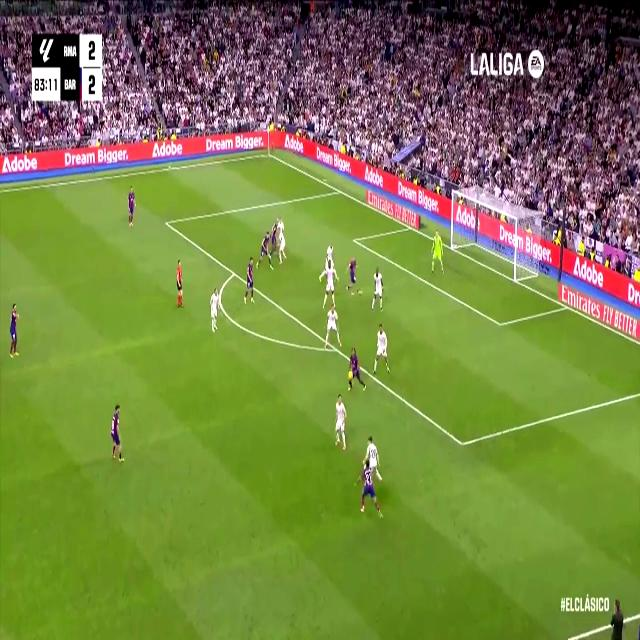bigarea_bottom_inner: (456, 429, 468, 457)
bigarea_top_inner: (163, 213, 170, 230)
bottom_arc_area_intersection: (331, 340, 340, 356)
corner: (264, 147, 273, 160)
smallarea_bottom_inner: (496, 314, 504, 334)
smallarea_top_inner: (350, 232, 358, 246)
top_arc_area_intersection: (230, 264, 238, 280)
